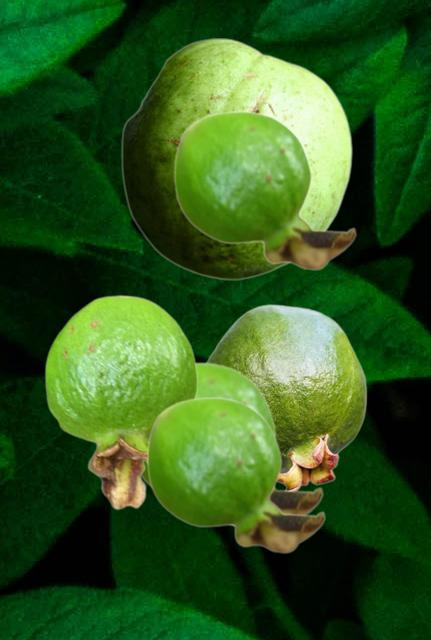guava: (121, 38, 351, 279), (44, 294, 197, 509), (206, 304, 366, 489), (173, 110, 356, 270), (146, 396, 325, 553), (142, 361, 323, 513)
